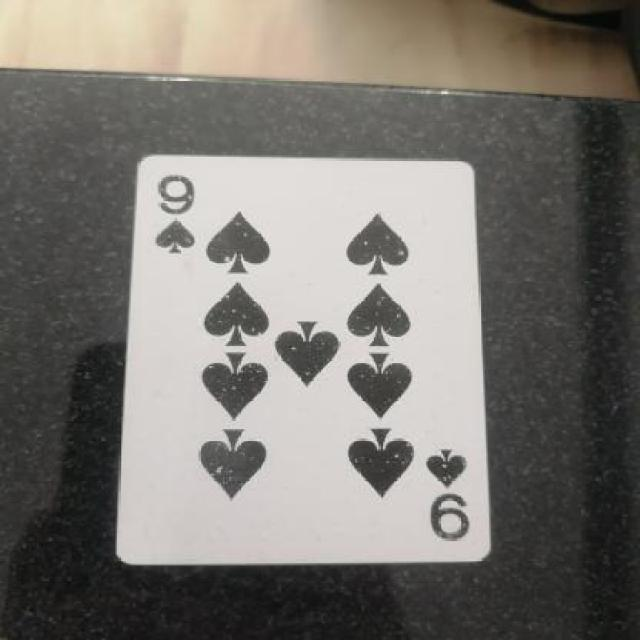9S: (412, 438, 490, 551), (148, 166, 202, 269)
